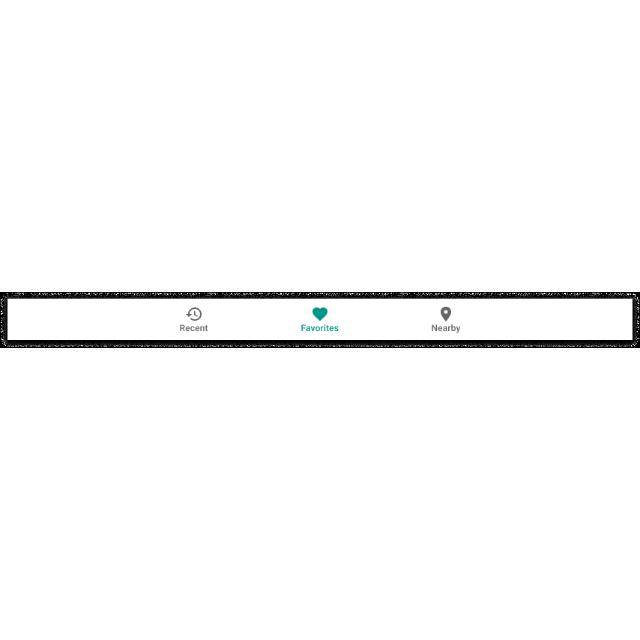QLabel: (430, 324, 462, 334), (300, 324, 340, 332), (178, 324, 208, 332)
VBottomNavigation: (7, 298, 633, 344)
VIcon: (312, 307, 328, 321), (185, 308, 202, 320), (439, 306, 451, 322)
